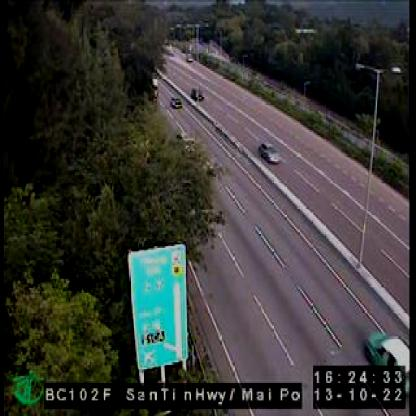Car: (364, 329, 410, 395), (258, 140, 281, 164), (191, 88, 206, 102), (172, 94, 184, 108)
